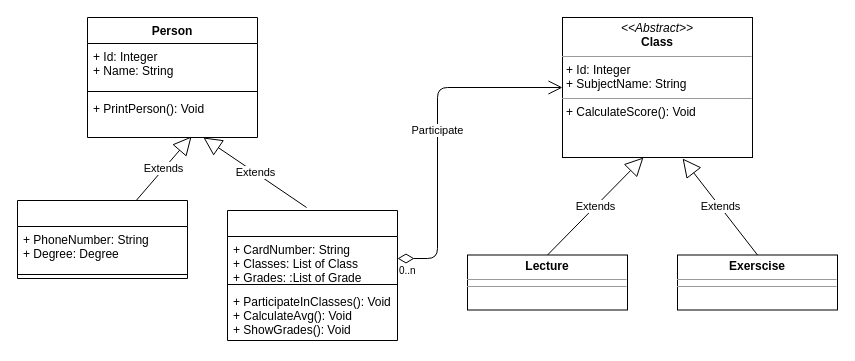
Some shapes in this 855 by 361 pixel diagram are drawn without their labels. The shapes that lost their labels are listed below. From the top down, each one's box as (x1, y1, x2, y2) in pixels, then its label:
(16, 200, 188, 278): Teacher
(226, 210, 398, 340): Student
